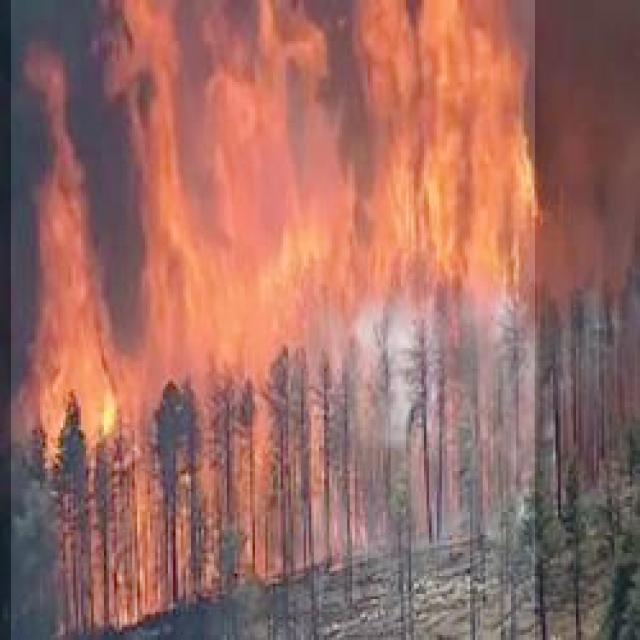Fire: (12, 0, 536, 640)
